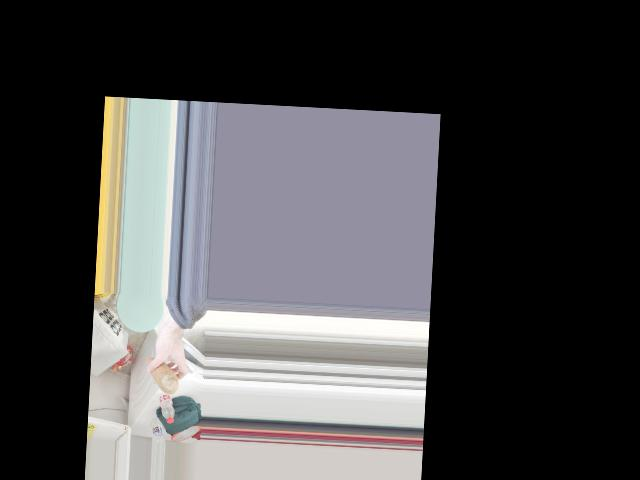sweet_potato: (143, 357, 177, 394)
